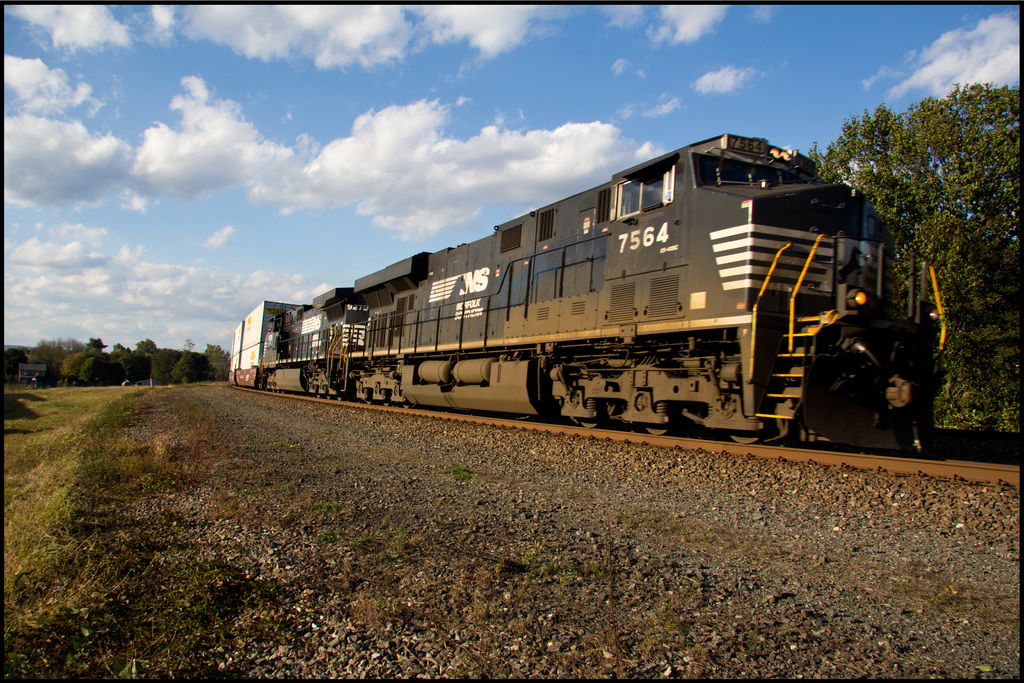train: (225, 125, 950, 444)
